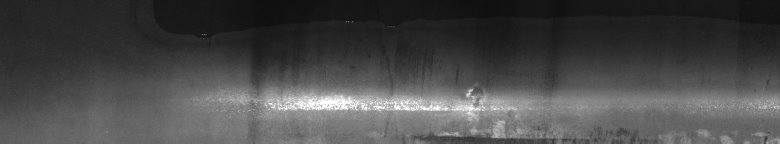ke: (170, 20, 776, 136)
